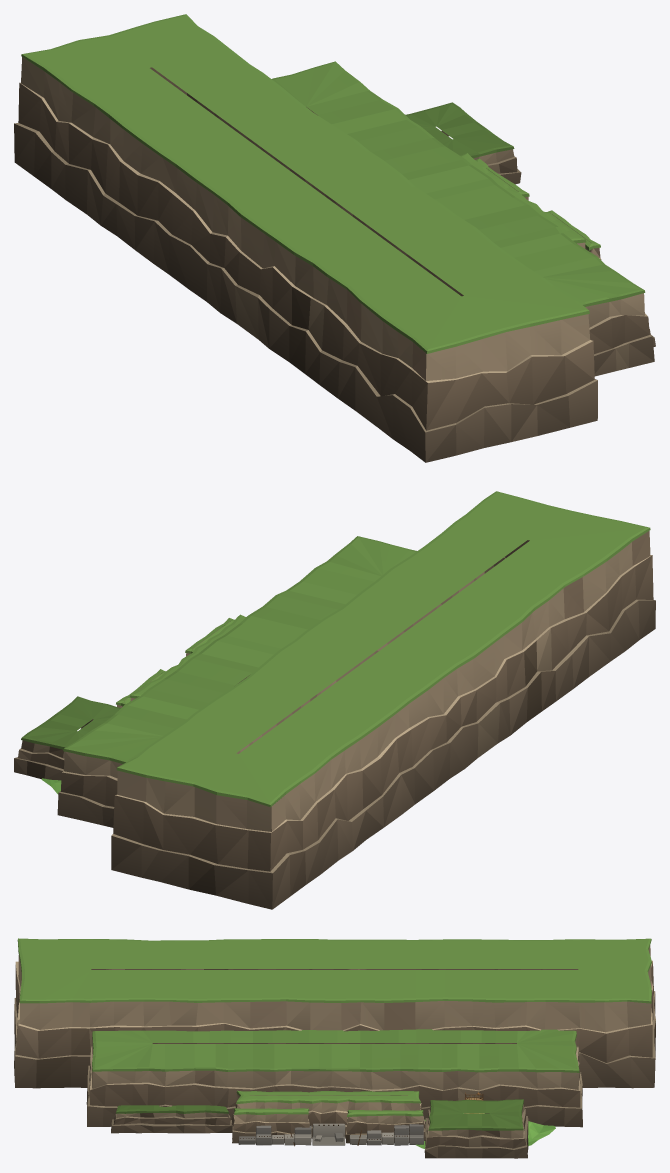
The model's file is dolmen.glb.
3 renders of one model, top to bottom at view 1: azimuth 30°, elevation 25°; view 2: azimuth 150°, elevation 25°; view 3: azimuth 270°, elevation 25°, orthographic. The views are drawn at different scales.
Visible parts, largest first — view 1: quarry_back, quarry; view 2: quarry_back, quarry; view 3: quarry_back, quarry, mound.
Boxes of the visible parts, bbox=[...] form: quarry_back: bbox=[14, 14, 655, 462]; quarry: bbox=[460, 153, 601, 259]; quarry_back: bbox=[14, 491, 655, 909]; quarry: bbox=[116, 614, 249, 707]; quarry_back: bbox=[14, 938, 655, 1158]; quarry: bbox=[232, 1090, 425, 1146]; mound: bbox=[416, 1113, 555, 1148].
Size of the model in its own units: 53.48 by 16.4 by 106.
